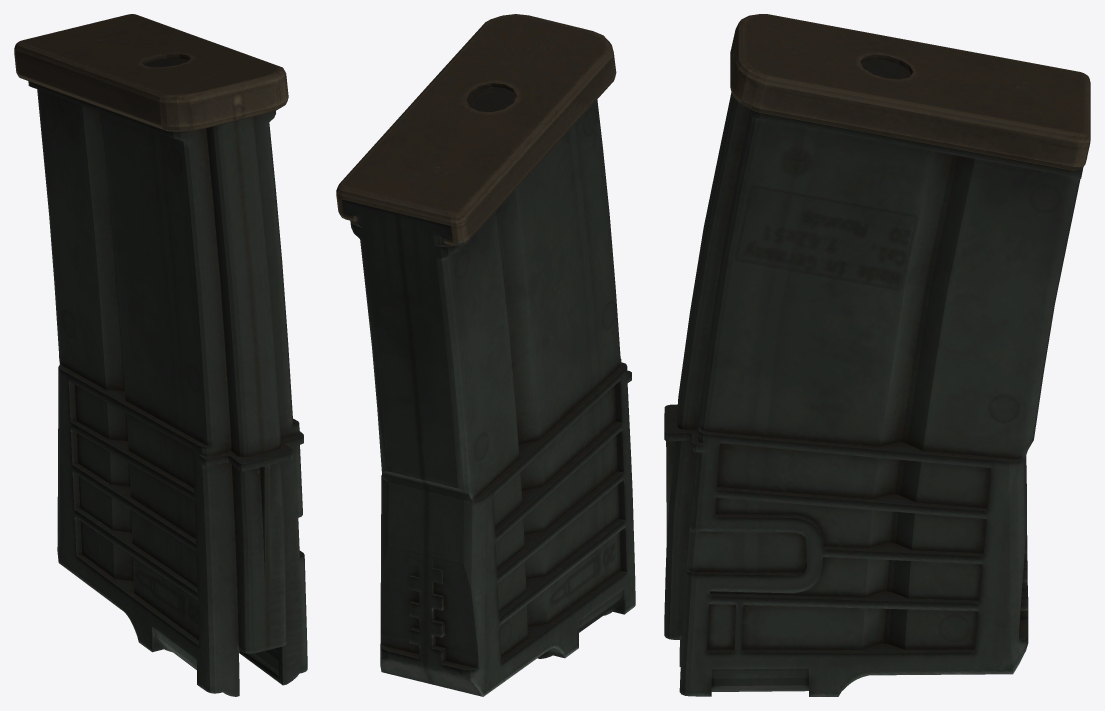
The picture shows the model from 3 angles, left to right: view 1: azimuth 30°, elevation 25°; view 2: azimuth 150°, elevation 25°; view 3: azimuth 270°, elevation 25°; orthographic projection. The views are drawn at different scales.
Visible parts, largest first — view 1: TW_617131a4568c120fdd29482d_PZ_Import; view 2: TW_617131a4568c120fdd29482d_PZ_Import; view 3: TW_617131a4568c120fdd29482d_PZ_Import.
Part boxes in pixels (<box>): TW_617131a4568c120fdd29482d_PZ_Import: <box>14,14,307,696</box>; TW_617131a4568c120fdd29482d_PZ_Import: <box>336,14,635,696</box>; TW_617131a4568c120fdd29482d_PZ_Import: <box>664,14,1090,696</box>.
Size of the model in its own units: 0.0222 by 0.0599 by 0.0989.
1 material, 1 textured.
